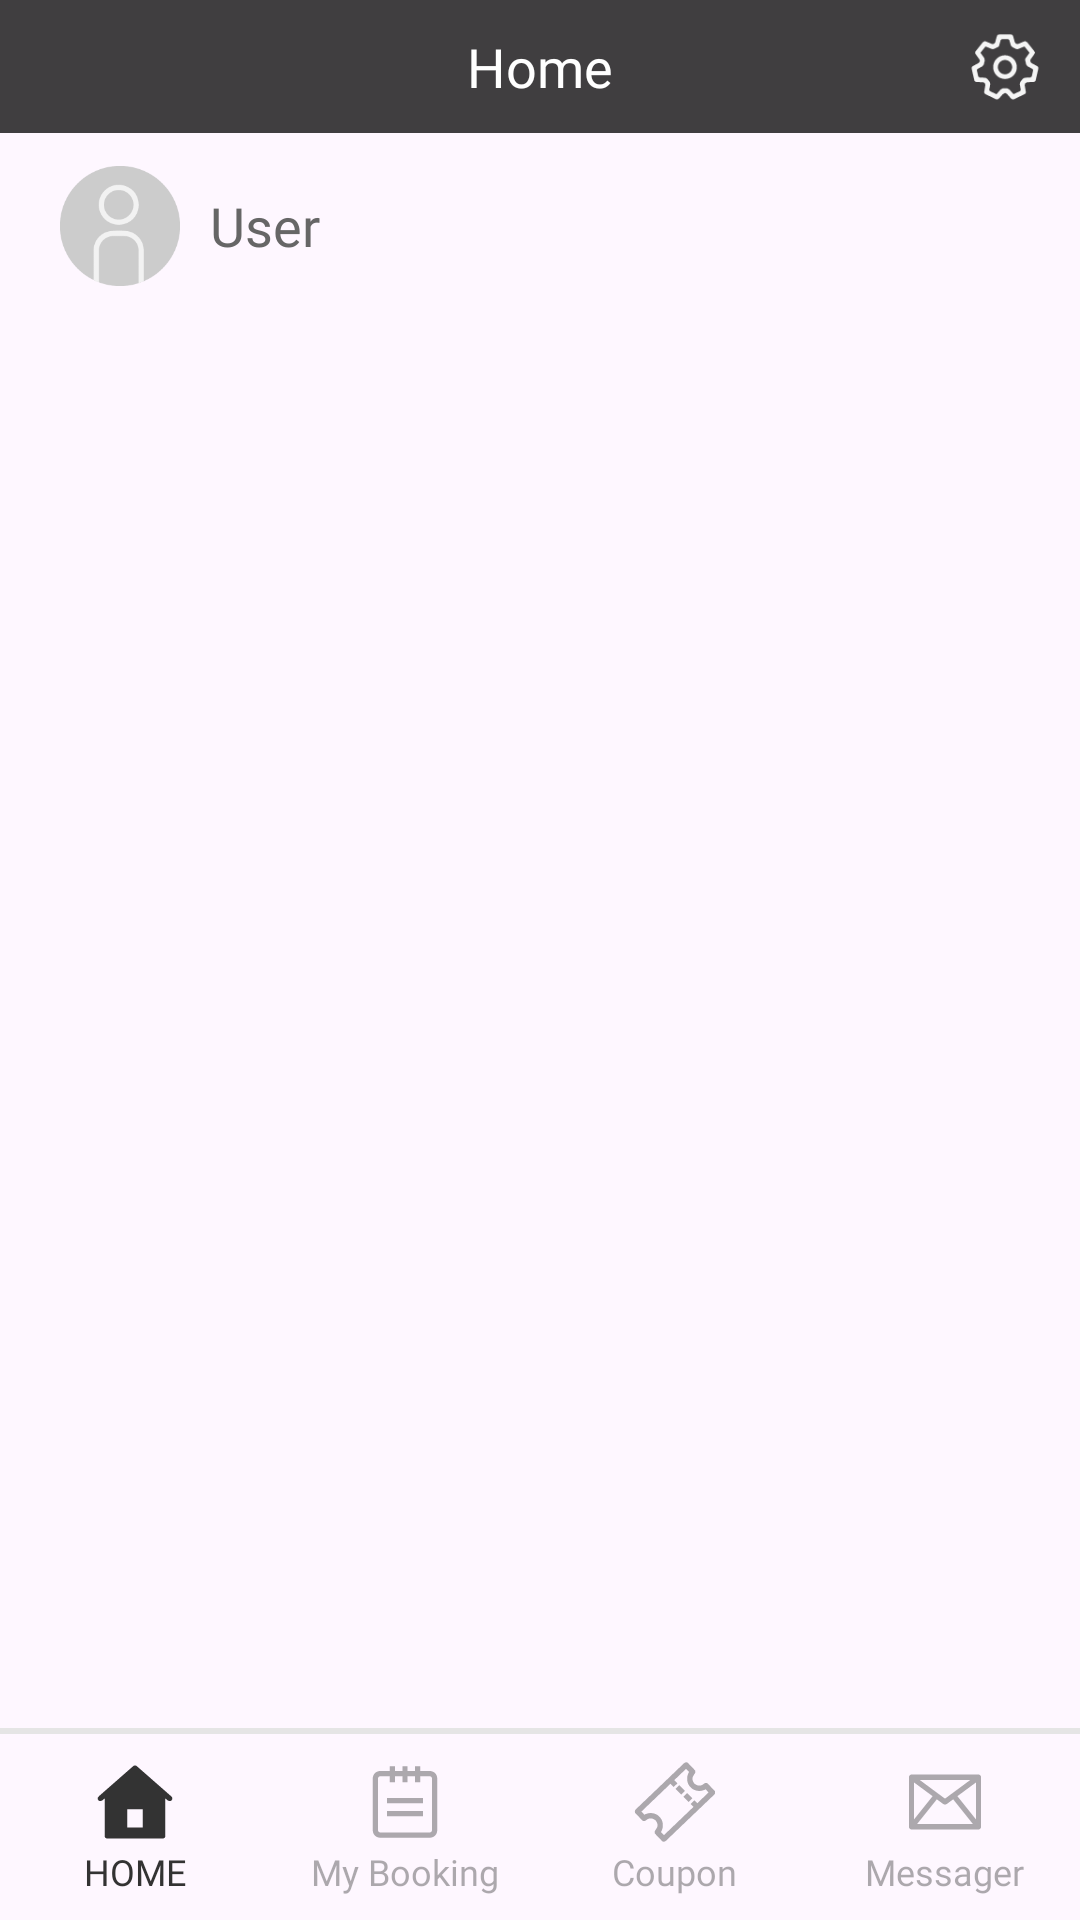

Named icons in this screenshot (1080 × 1920) and their centers, (x,y):
guest profile: (120,226)
guest setting: (1005,67)
